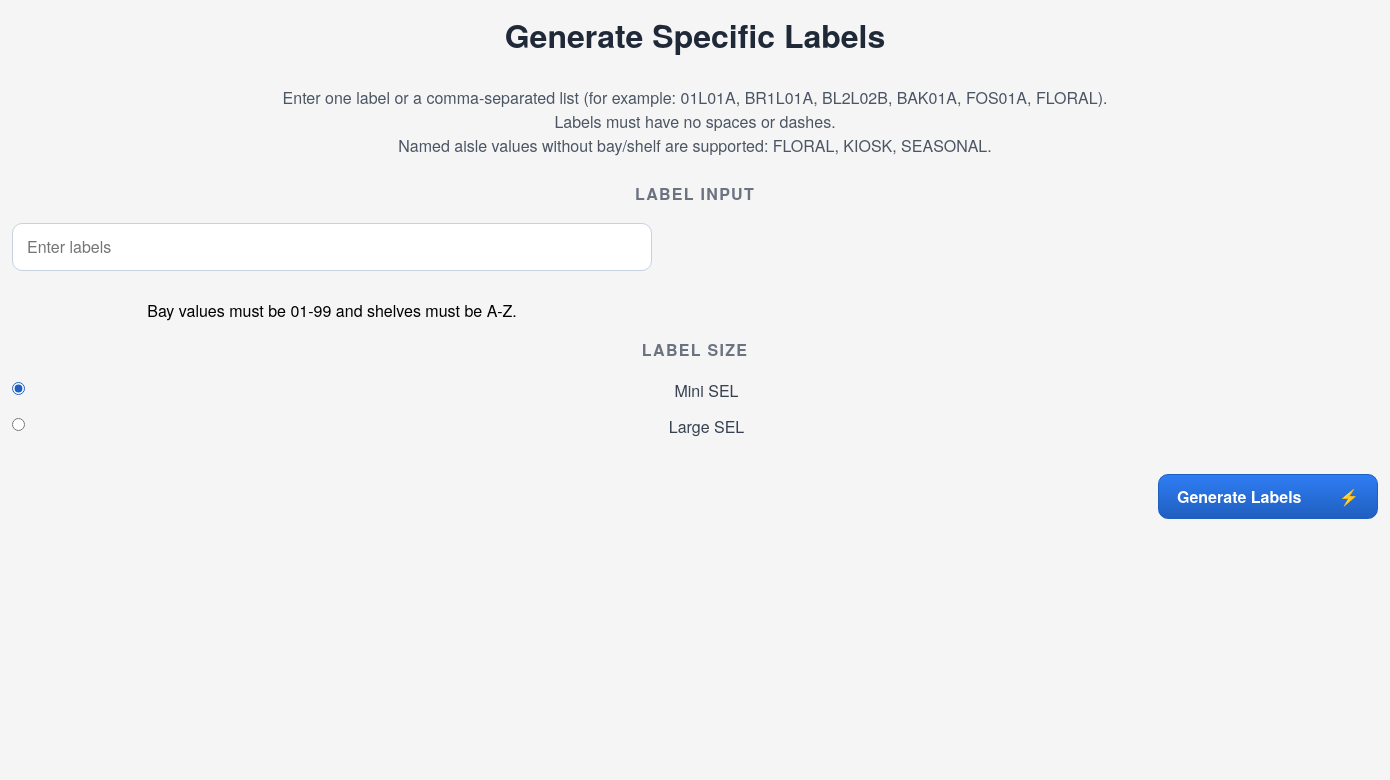
Test: SpecificLabelForm › shows error when submitted without input
Step 1. Click the button "Generate Labels ⚡" → click(1268, 496), box [1158, 474, 1378, 519]
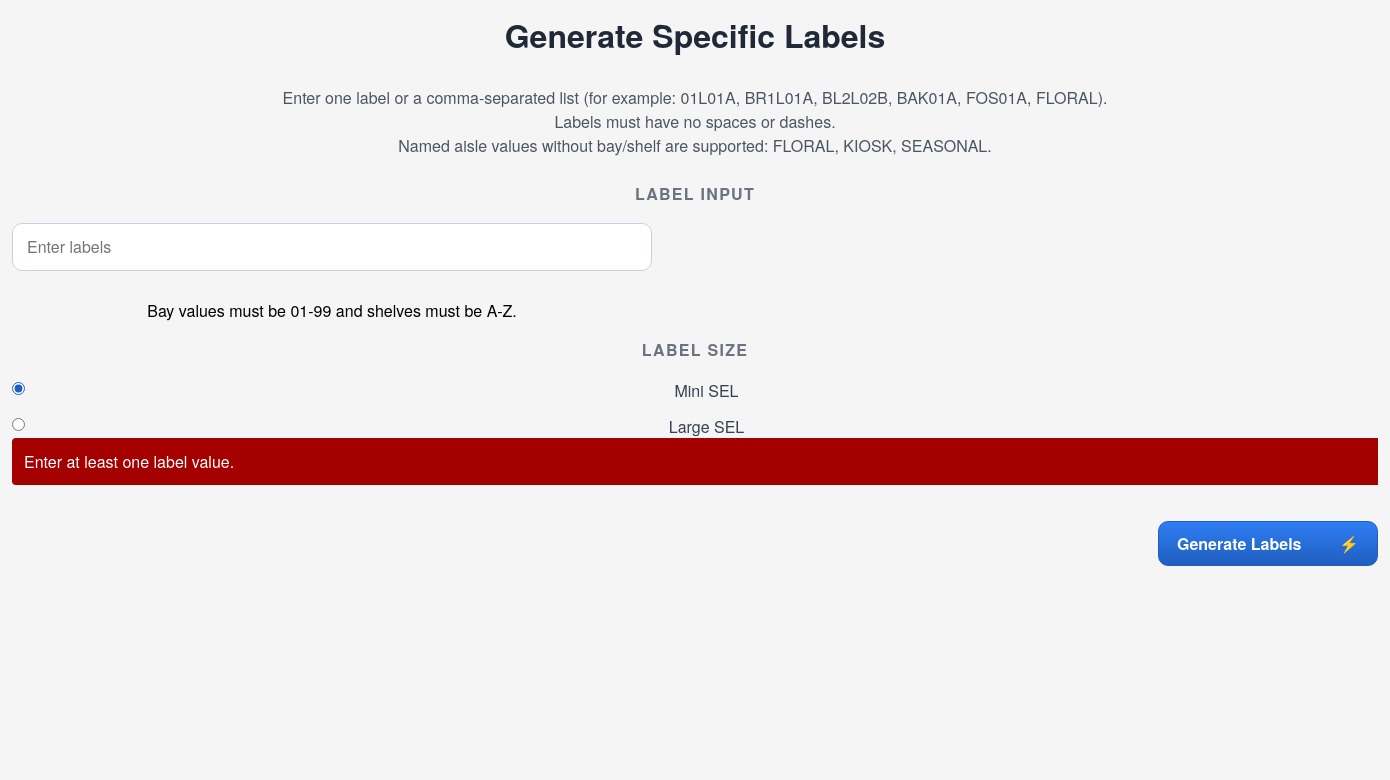
Result: the message reads "Enter at least one label value." at [24, 450, 234, 473]
